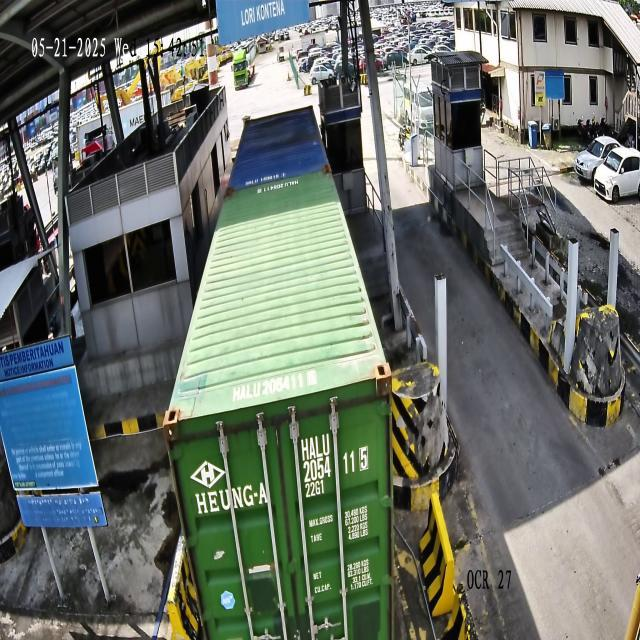ISO: (306, 478, 326, 499)
container_number: (300, 432, 370, 482)
